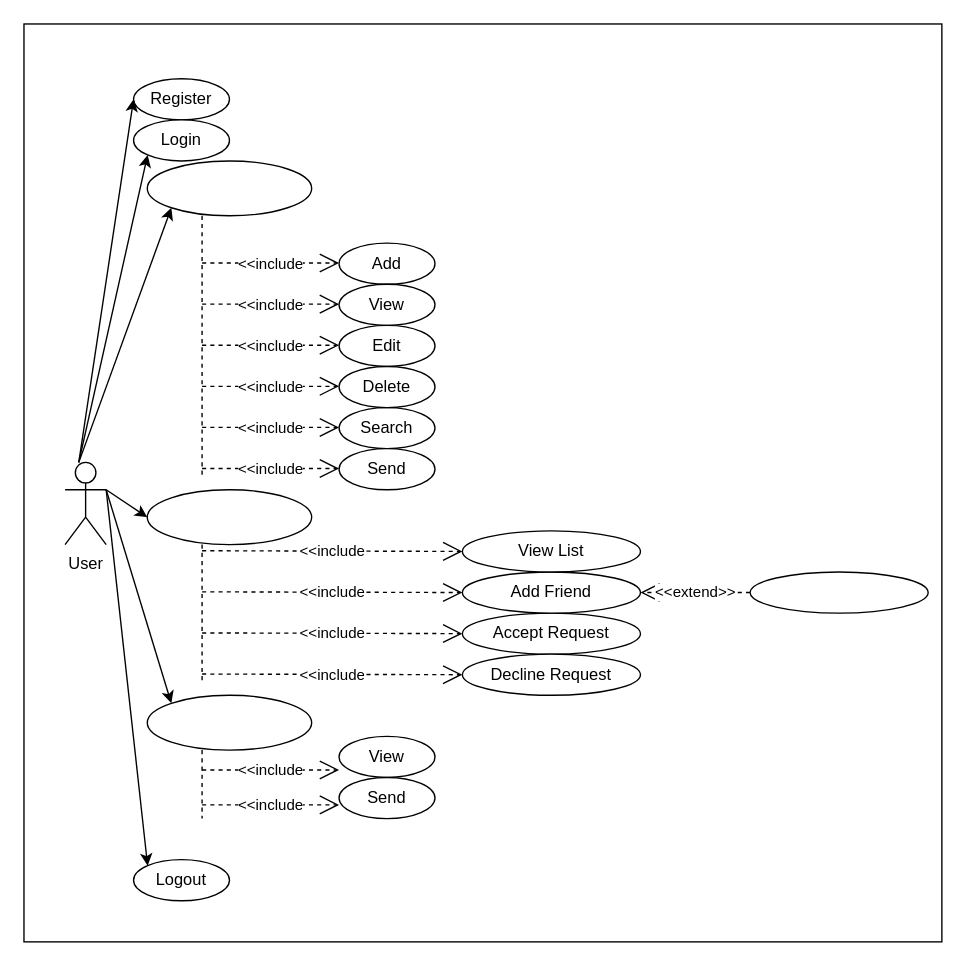
Some shapes in this 966 by 966 pixel diagram are drawn without their labels. Here are the shapes that lost their labels. From the top down, the centre of each, then its label:
(229,188): Manage Recommendations
(229,516): Manage Friend List
(838,592): Send Request
(229,722): Messages
